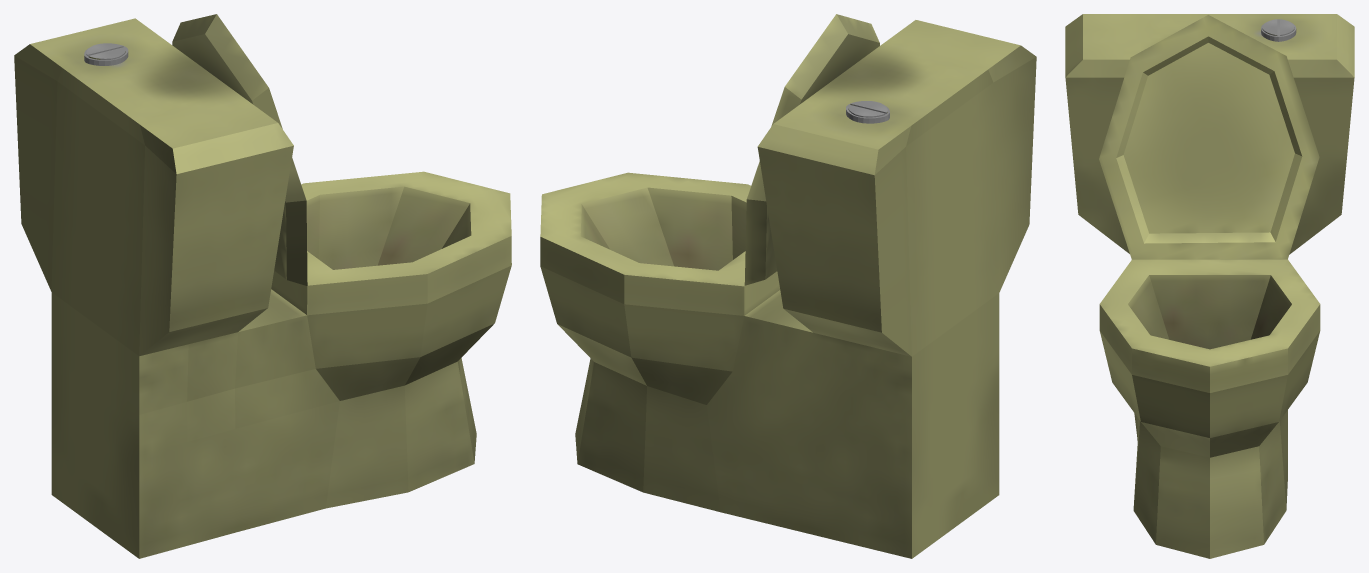
Rendered from toilet_open.obj.
3 renders of one model, left to right at view 1: azimuth 30°, elevation 25°; view 2: azimuth 150°, elevation 25°; view 3: azimuth 270°, elevation 25°, orthographic. The views are drawn at different scales.
Visible parts, largest first — view 1: toilet_open; view 2: toilet_open; view 3: toilet_open.
Part boxes in pixels (bbox=[...]): toilet_open: bbox=[14, 14, 511, 558]; toilet_open: bbox=[540, 14, 1036, 558]; toilet_open: bbox=[1065, 14, 1354, 558].
Size of the model in its own units: 0.9558 by 1.07 by 0.6478.
